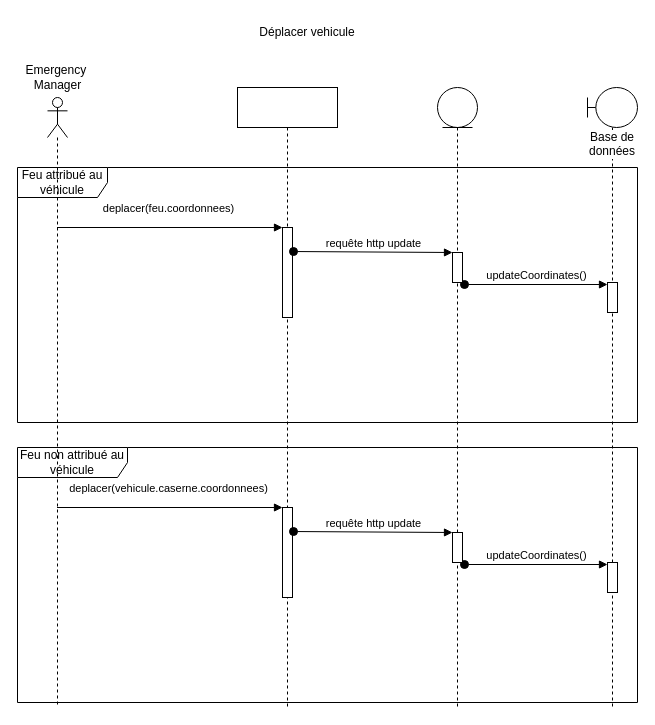
Some shapes in this 655 by 725 pixel diagram are drawn without their labels. The shapes that lost their labels are listed below. From the top down, each one's box as (x1, y1, x2, y2) in pixels, then its label:
(236, 86, 338, 708): :Vehicule
(436, 86, 478, 708): API REST
